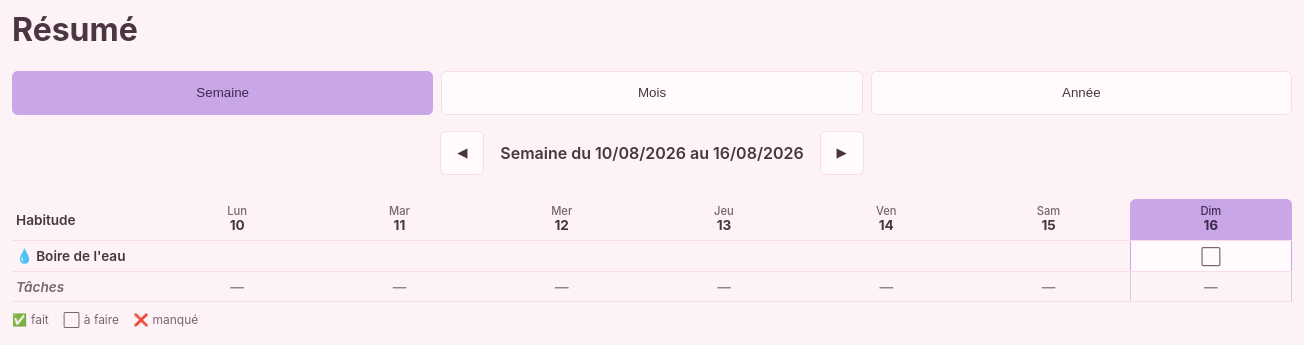
Résumé — /resume (US-005) › scénario 2/3bis — bascule vers « mois » : toujours des colonnes en jours
The image size is (1304, 345).
Expected: the text "Boire de l'eau" is shown, left=36, top=248, right=126, bottom=264
Step 1. Click the button "Mois" → (652, 93), box left=441, top=71, right=863, bottom=115
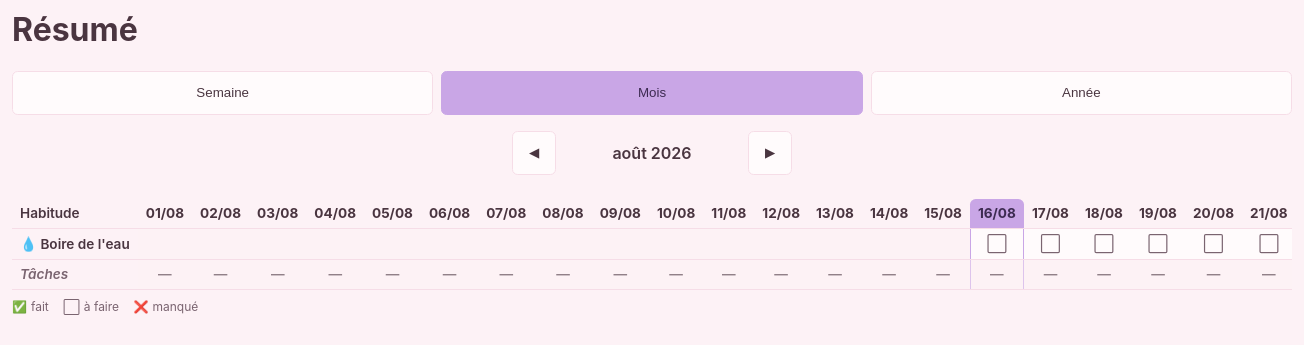
Expected: the text "Semaine du" is gone
